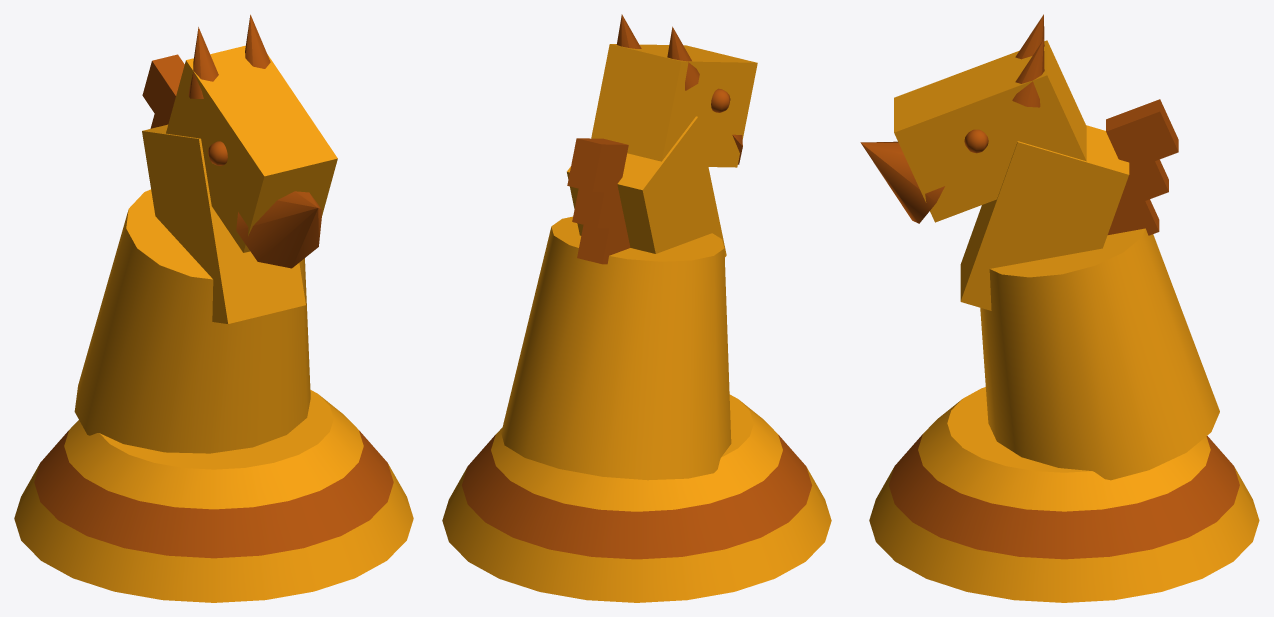
File: pawn_horse.glb
3 views of the same model, side by side, from view 1: azimuth 30°, elevation 25°; view 2: azimuth 150°, elevation 25°; view 3: azimuth 270°, elevation 25° (orthographic). The views are drawn at different scales.
Parts seen in each view (by area): view 1: Pawn_Horse_Knight; view 2: Pawn_Horse_Knight; view 3: Pawn_Horse_Knight.
Boxes of the visible parts, <box> form: Pawn_Horse_Knight: <box>14,14,413,602</box>; Pawn_Horse_Knight: <box>442,14,831,602</box>; Pawn_Horse_Knight: <box>860,14,1259,602</box>.
Bounding box in the file's own units: 0.8 × 1.12 × 0.8179.
